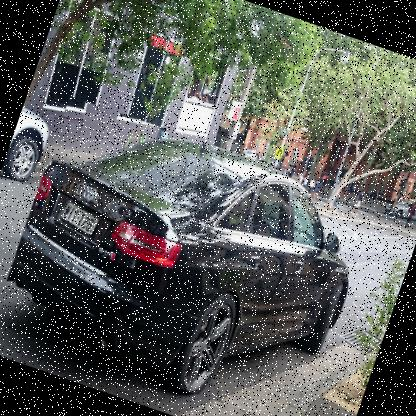Car: (0, 96, 379, 415), (0, 106, 55, 187), (0, 240, 17, 351), (386, 192, 415, 226)
